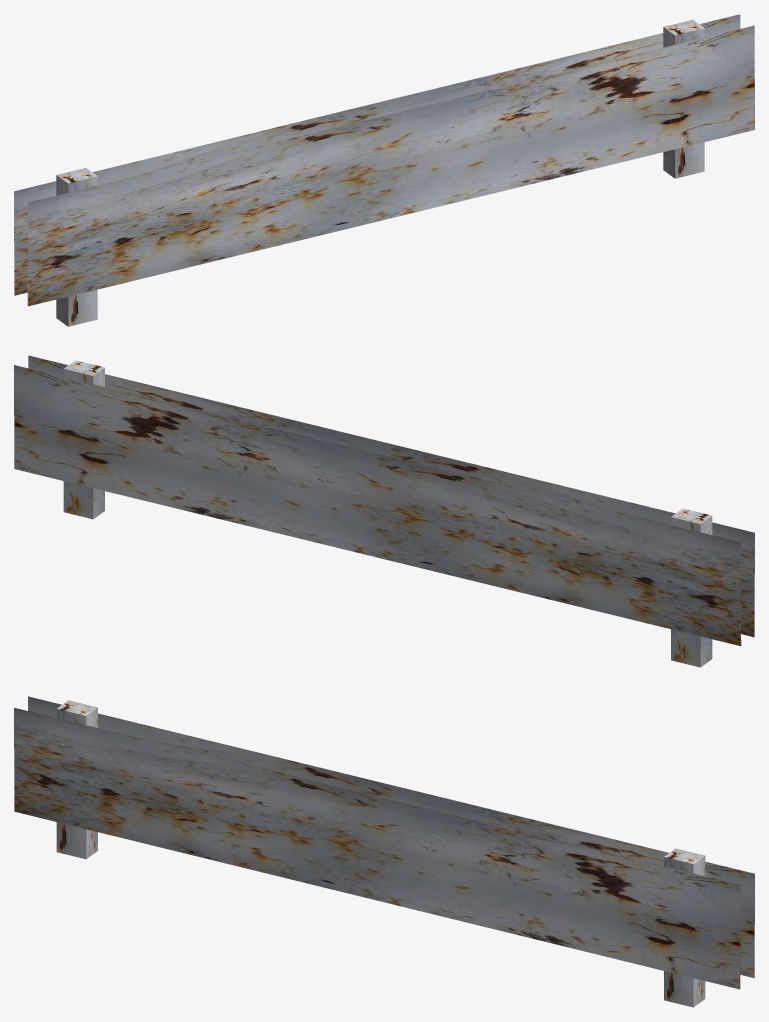
The model's file is road barrier.fbx.
3 views of the same model, one above another, from view 1: azimuth 30°, elevation 25°; view 2: azimuth 150°, elevation 25°; view 3: azimuth 330°, elevation 25° (orthographic).
Visible parts, largest first — view 1: Cube; view 2: Cube; view 3: Cube.
Boxes of the visible parts, left/top/right/bottom form: Cube: left=14, top=14, right=754, bottom=326; Cube: left=14, top=355, right=754, bottom=667; Cube: left=14, top=696, right=754, bottom=1007.
Bounding box in the file's own units: 1458 × 275 × 50.68.
